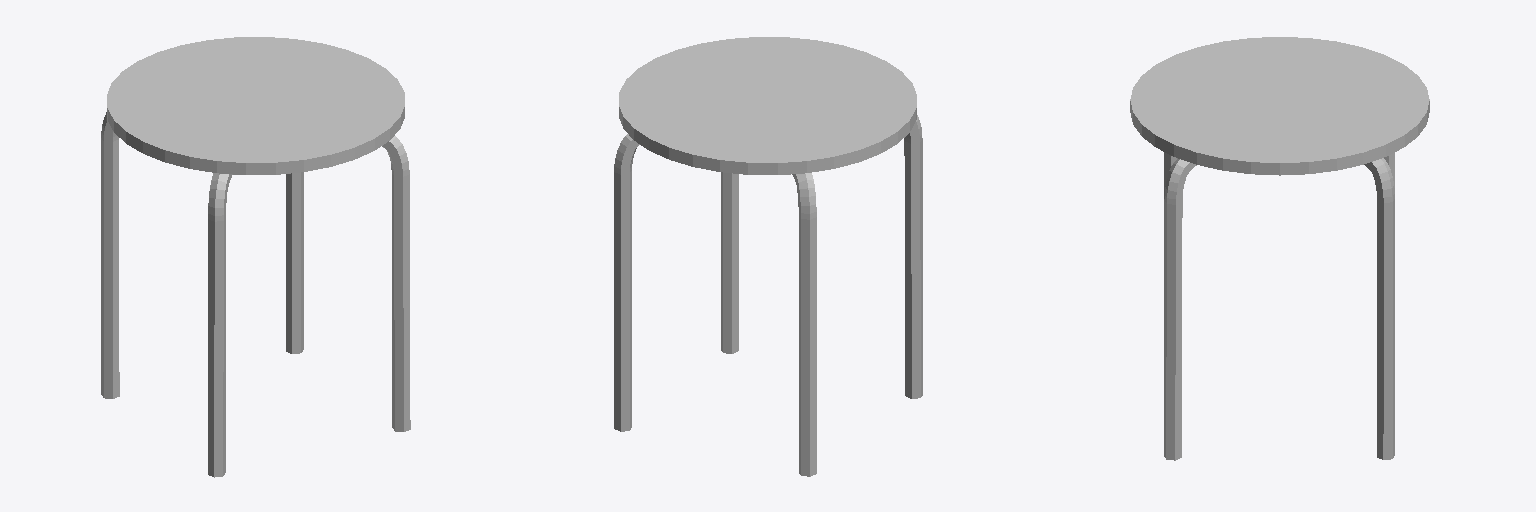
Rendered from stool.obj.
3 renders of one model, left to right at view 1: azimuth 30°, elevation 25°; view 2: azimuth 150°, elevation 25°; view 3: azimuth 270°, elevation 25°, orthographic.
Visible parts, largest first — view 1: Assise, Tube_1, Tube; view 2: Assise, Tube, Tube_1; view 3: Assise, Tube, Tube_1.
Boxes of the visible parts, <box> form: Assise: <box>107,37,404,174</box>; Tube_1: <box>101,112,410,431</box>; Tube: <box>208,172,303,477</box>; Assise: <box>619,37,916,174</box>; Tube: <box>614,115,922,431</box>; Tube_1: <box>721,172,816,476</box>; Assise: <box>1130,37,1429,175</box>; Tube: <box>1164,152,1394,459</box>; Tube_1: <box>1164,153,1394,460</box>.
Size of the model in its own units: 0.4 by 0.4596 by 0.4.